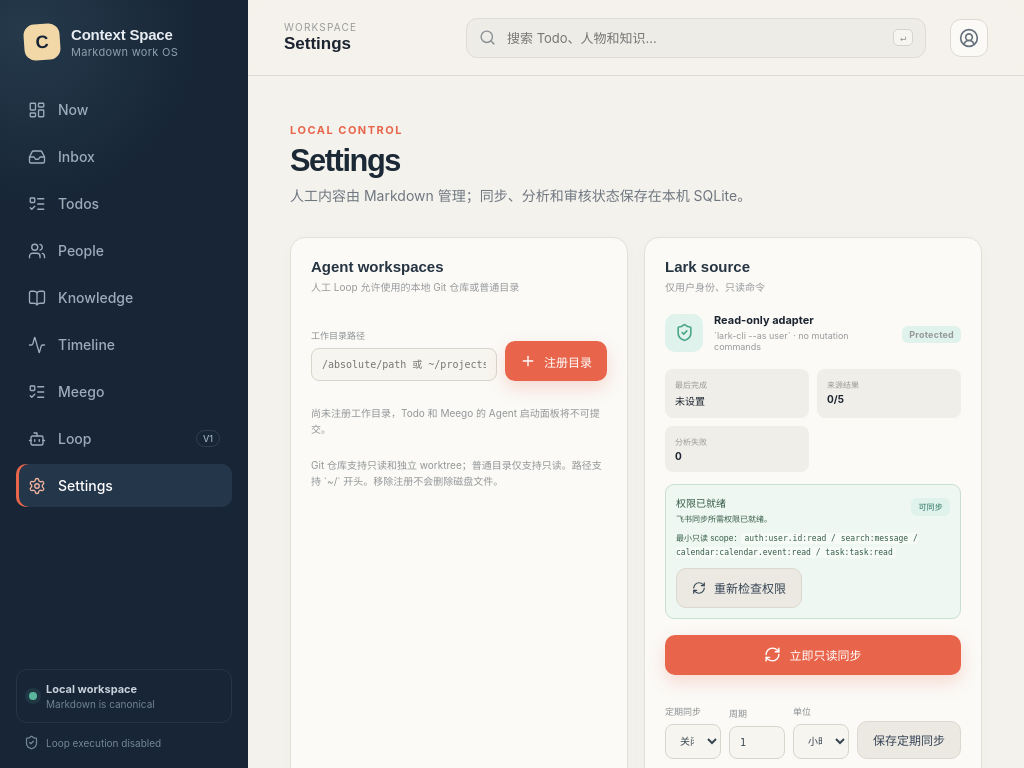
Test: Context Space workbench › registers and removes an Agent repository in Settings
Type "/workspace/context-space" into the field named "Agent 工作目录路径".
click(404, 365); type("/workspace/context-space")  # box x1=311 y1=348 x2=497 y2=381
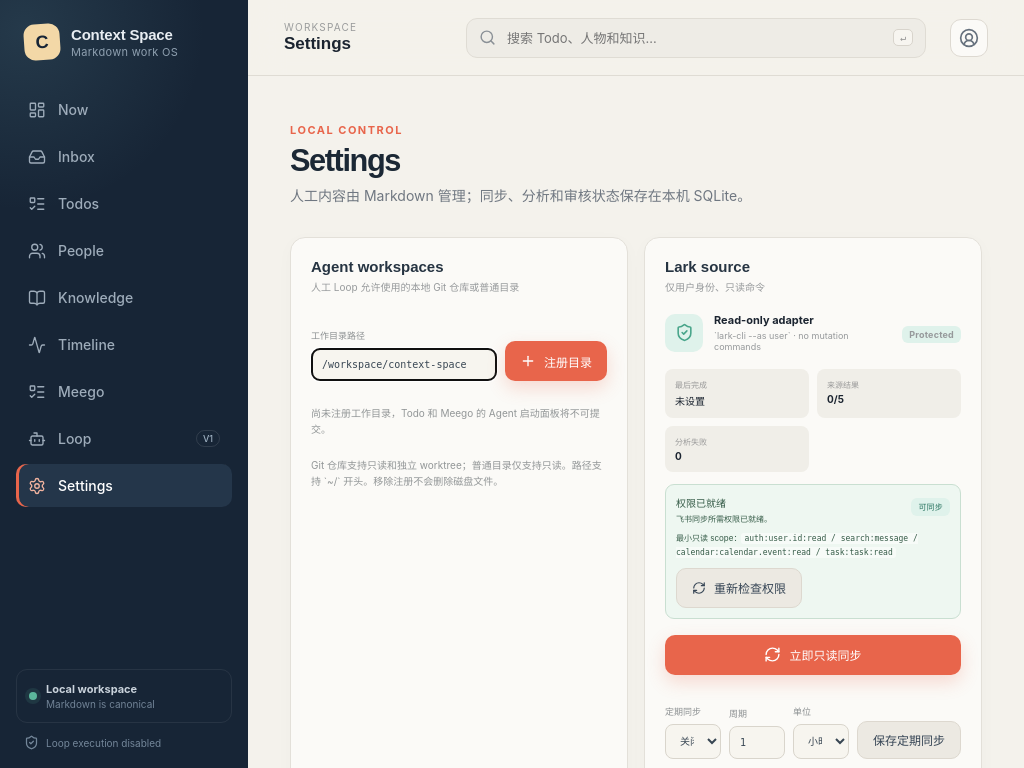
Click the button "注册目录".
click(556, 361)  # box x1=505 y1=341 x2=607 y2=381
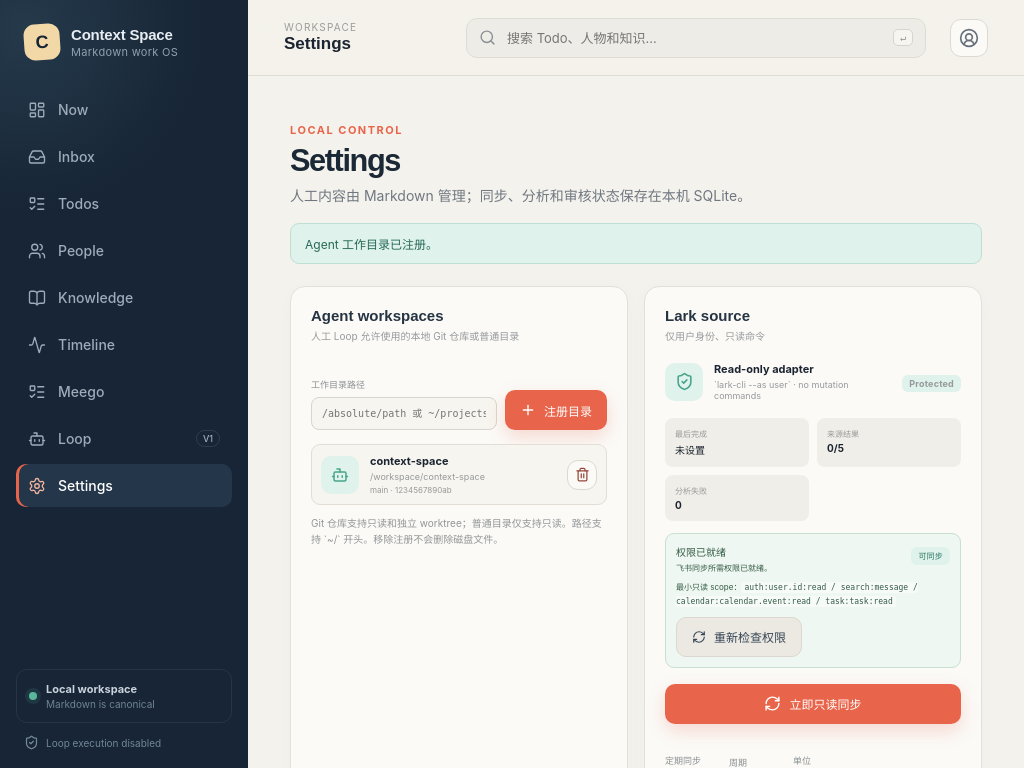
Expected: the text "Agent 工作目录已注册。" is shown, x1=290 y1=223 x2=982 y2=264
Expected: the text "/workspace/context-space" is shown, x1=370 y1=471 x2=485 y2=482
Click the button named "移除目录 context-space".
click(582, 475)  # box x1=567 y1=460 x2=597 y2=490
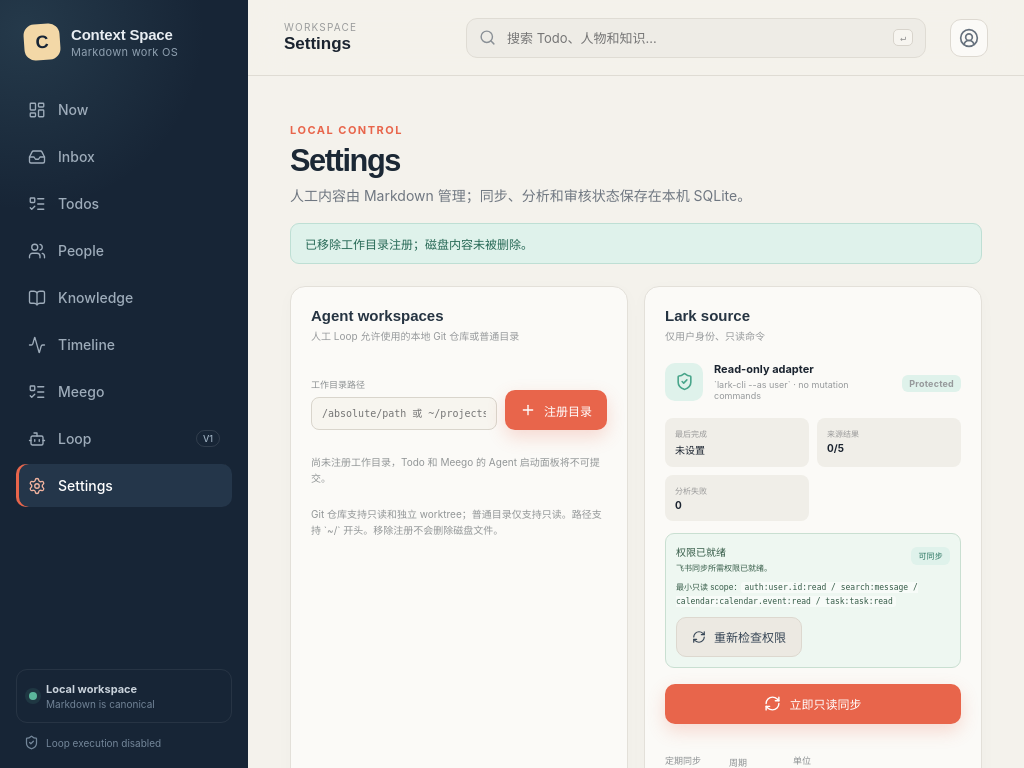
Expected: the text "已移除工作目录注册；磁盘内容未被删除。" is shown, x1=290 y1=223 x2=982 y2=264
